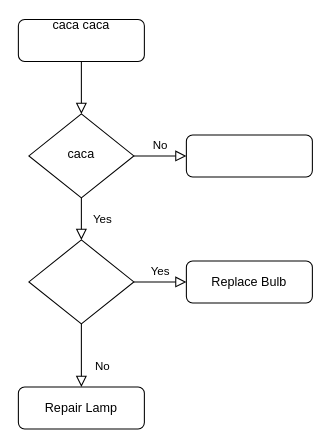
This 331x447 diagram has some shape labels left out. Each missing label, with the centre of its shape:
Bulb burned out?: (x=81, y=281)
Plug in lamp: (x=248, y=155)
